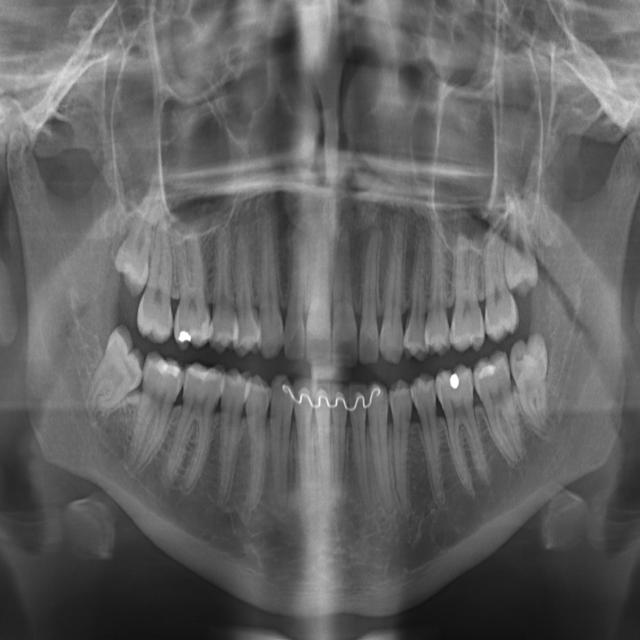AmalgamRestoration: (443, 364, 466, 401), (178, 315, 195, 349)
CompositeResinRestoration: (187, 352, 221, 391), (151, 350, 183, 388), (474, 354, 498, 394), (201, 302, 216, 352)
ImpactedTooth: (105, 206, 163, 302), (88, 328, 146, 409), (512, 319, 550, 433), (507, 210, 541, 300)
